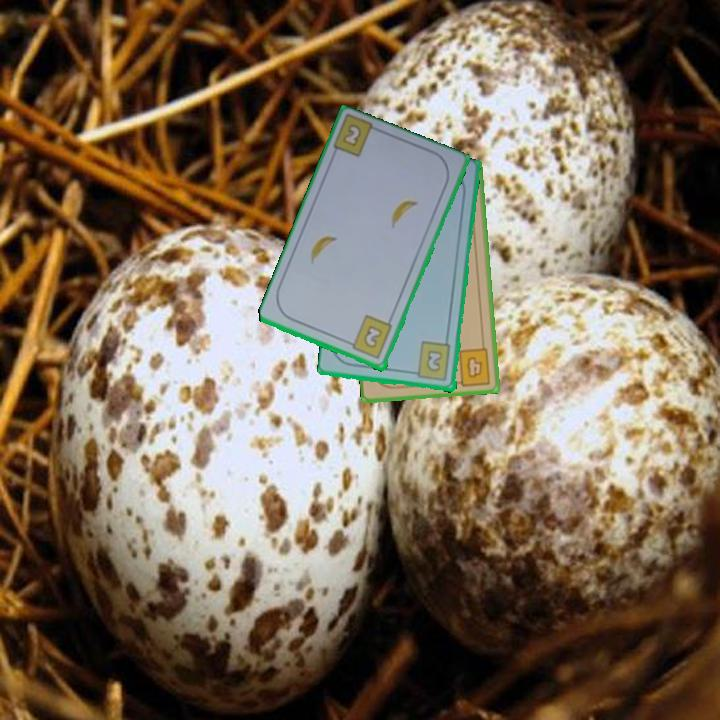2b: (343, 312, 395, 362), (408, 339, 454, 384), (339, 120, 365, 150)
4b: (451, 345, 493, 389)
